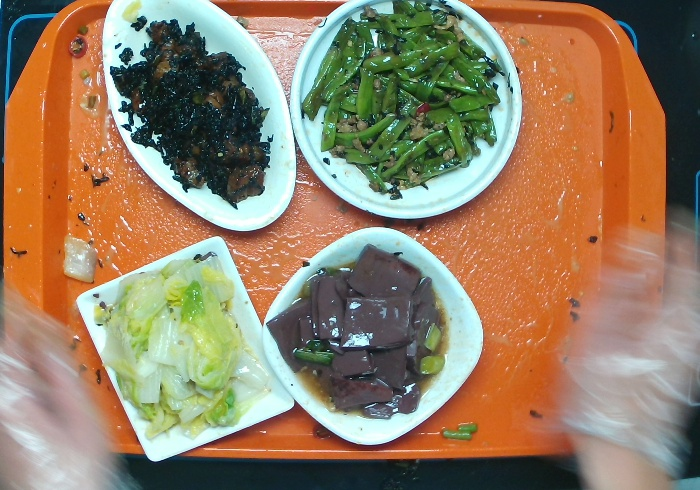HZYJPL-Si_Fang_Die: (84, 231, 310, 469)
HZYJPL-Si_Fang_Yuan_Die: (259, 226, 482, 446)
HZYJPL-Xiao_Yu_Die: (95, 1, 297, 234)
HZYJPL-Xiao_Yuan_Die: (291, 1, 525, 222)
